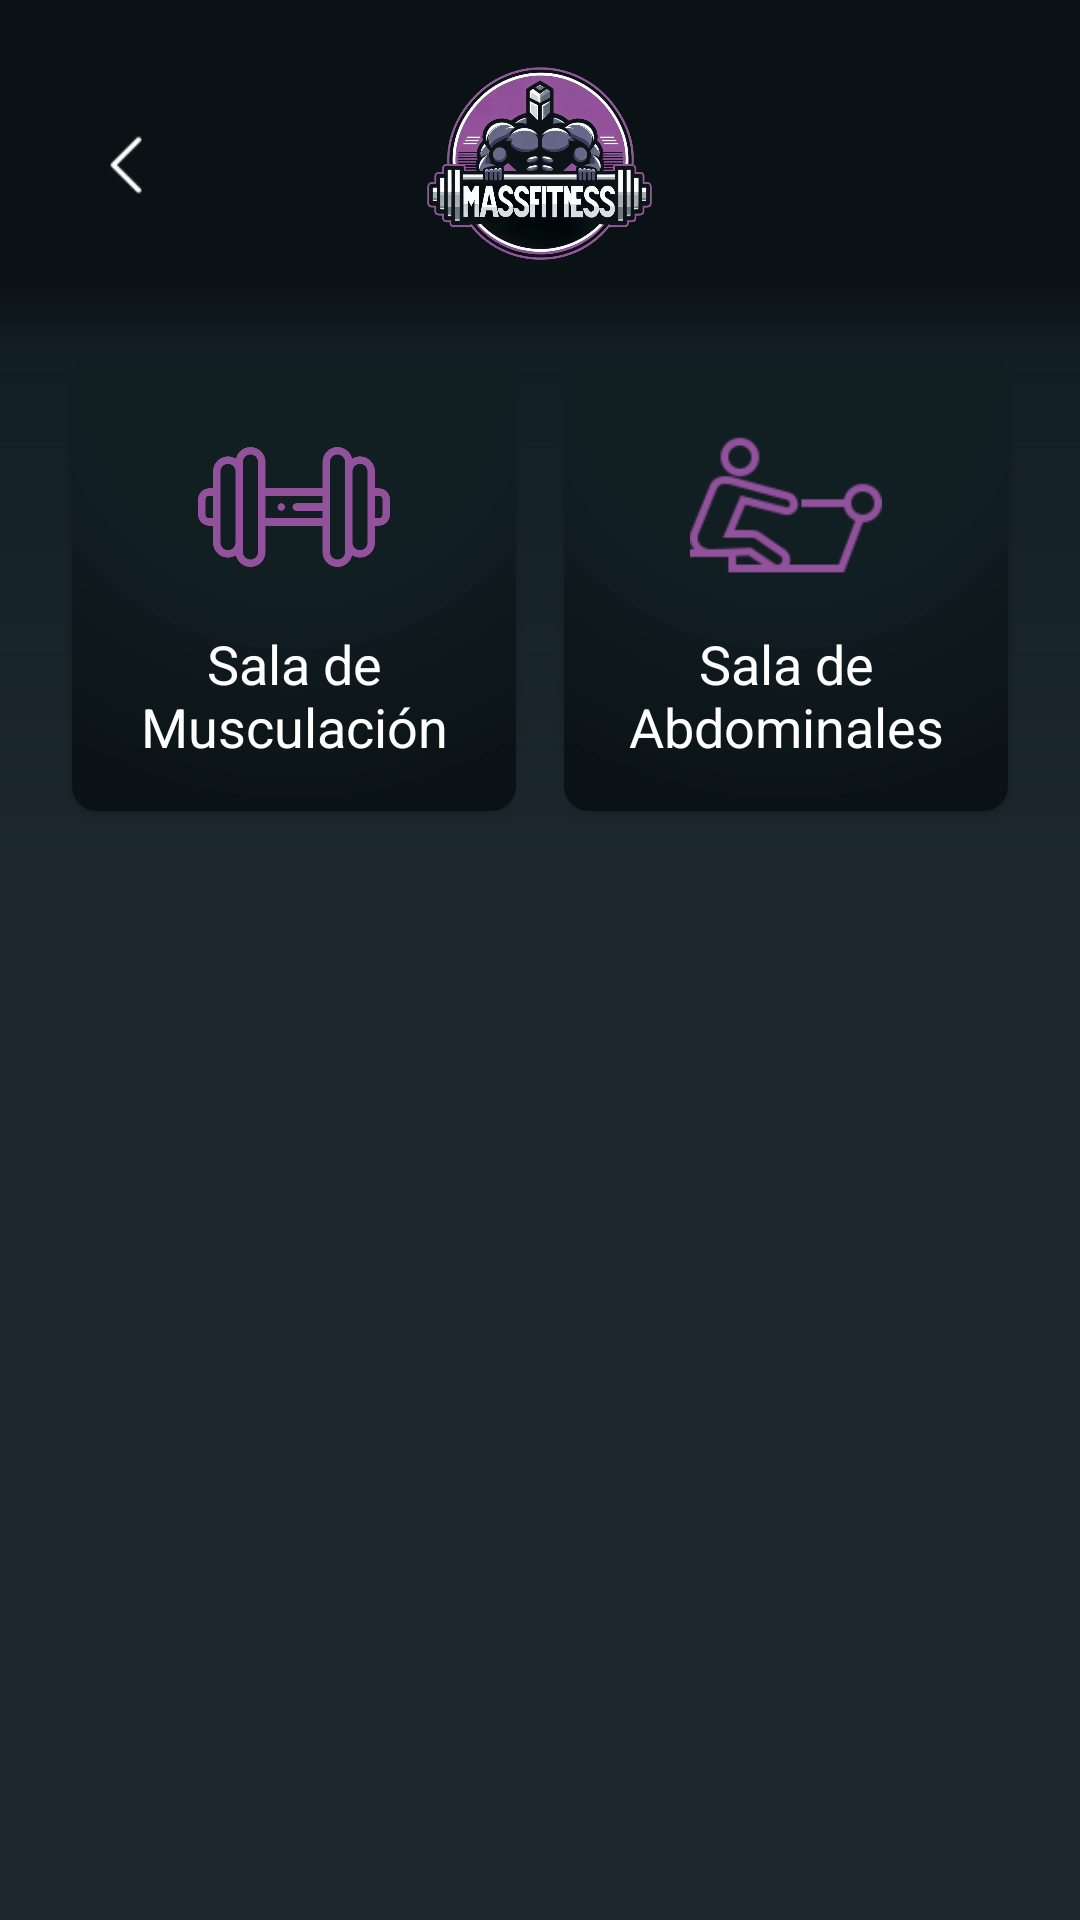

Screen size 1080 x 1920. Icon name, then its center in pixels as (x=x, y=y):
atras: (x=126, y=165)
Weight Room: (x=294, y=507)
